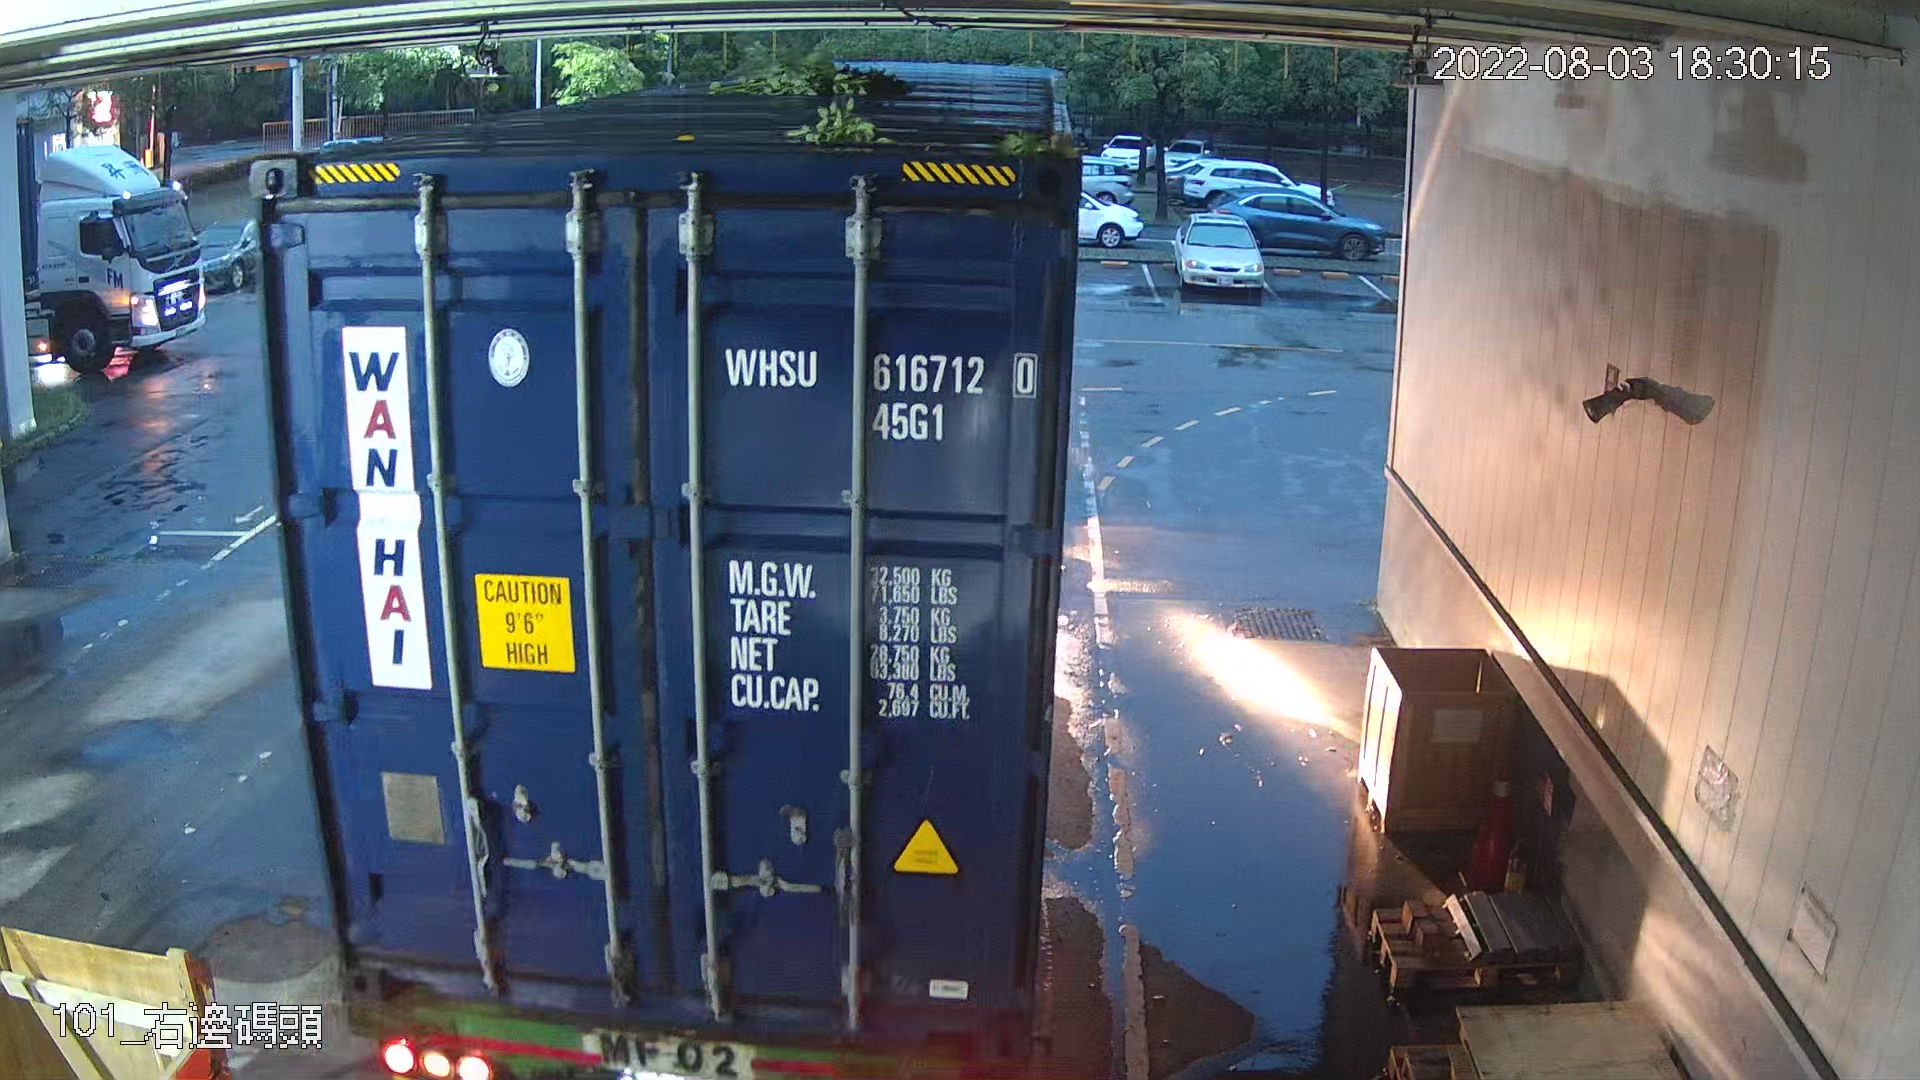container: (705, 332, 1048, 452)
